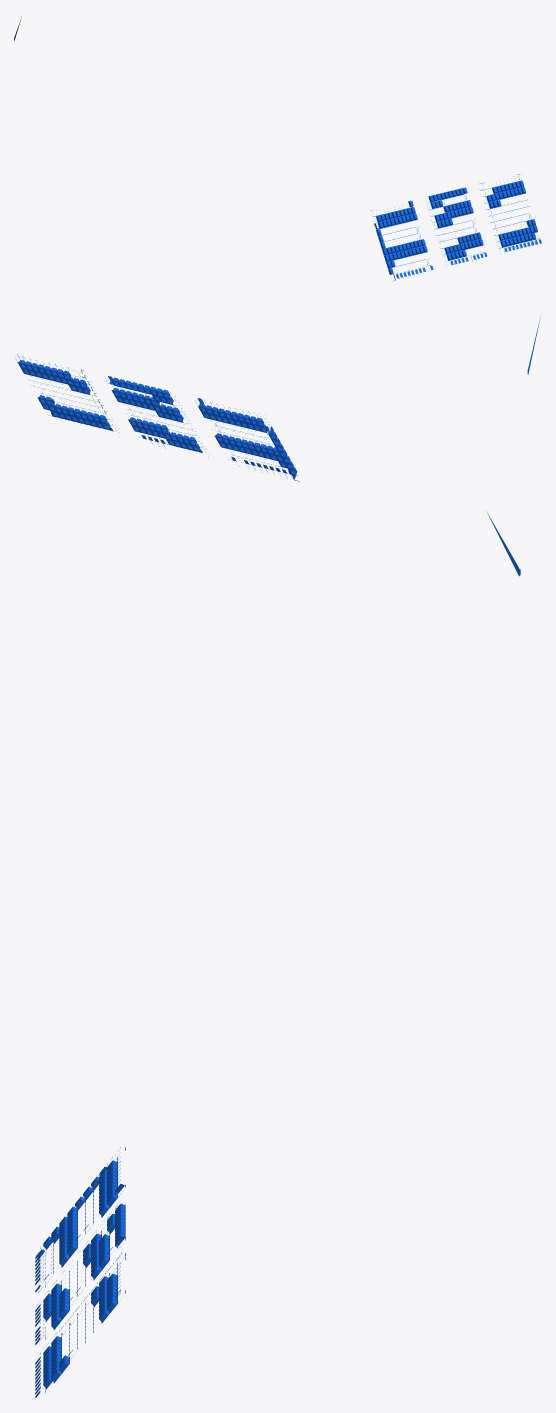
3 renders of one model, top to bottom at view 1: azimuth 30°, elevation 25°; view 2: azimuth 150°, elevation 25°; view 3: azimuth 270°, elevation 25°, orthographic. The views are drawn at different scales.
Visible parts, largest first — view 1: Object_26; view 2: Object_26; view 3: Object_26.
Part boxes in pixels (x1,y1,x2,y2): Object_26: (14, 17, 541, 281); Object_26: (15, 315, 540, 481); Object_26: (35, 511, 520, 1398).
Size of the model in its own units: 1.39 by 0.8089 by 0.718.
